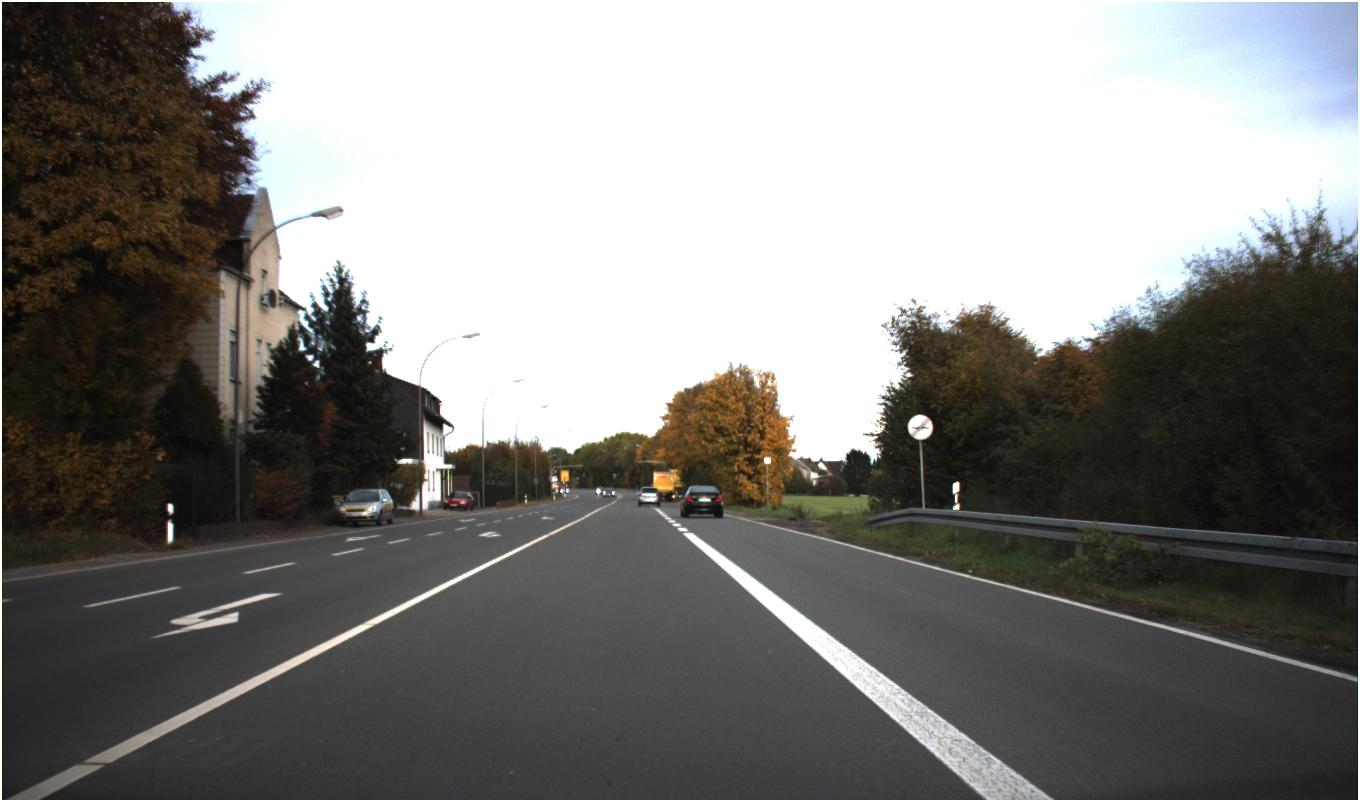sign: (907, 414, 933, 440)
